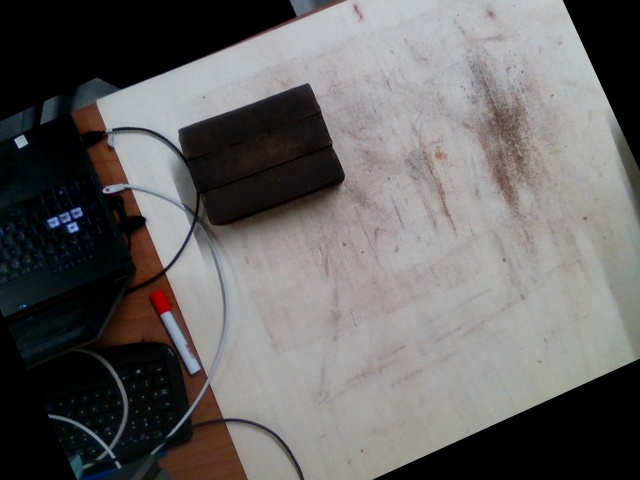brick-side: (179, 83, 317, 159), (204, 147, 342, 223), (191, 115, 329, 190)
